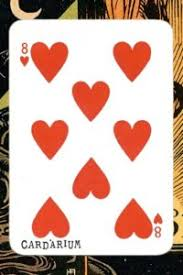eight of hearts: (9, 20, 171, 255)
